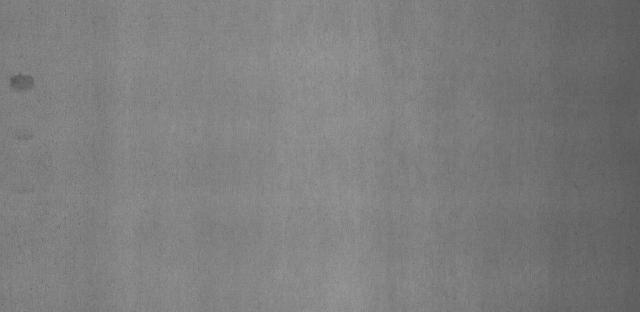oil_spot: (8, 67, 38, 96)
